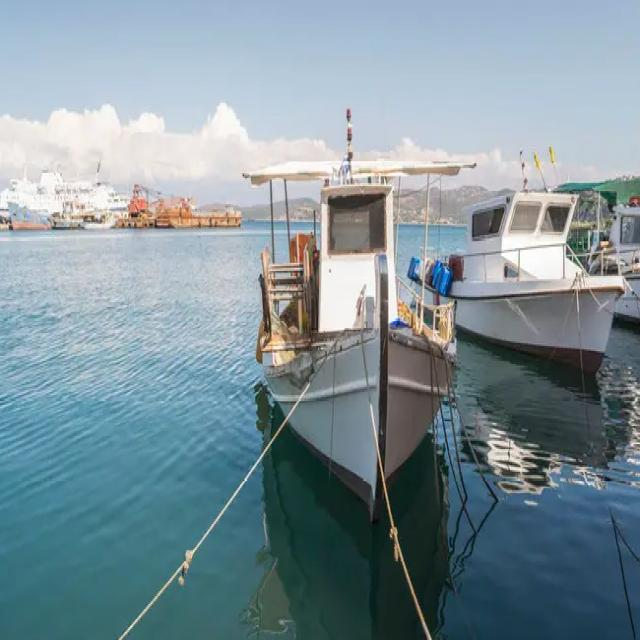fishing boat: (250, 143, 467, 507), (415, 180, 613, 365)
